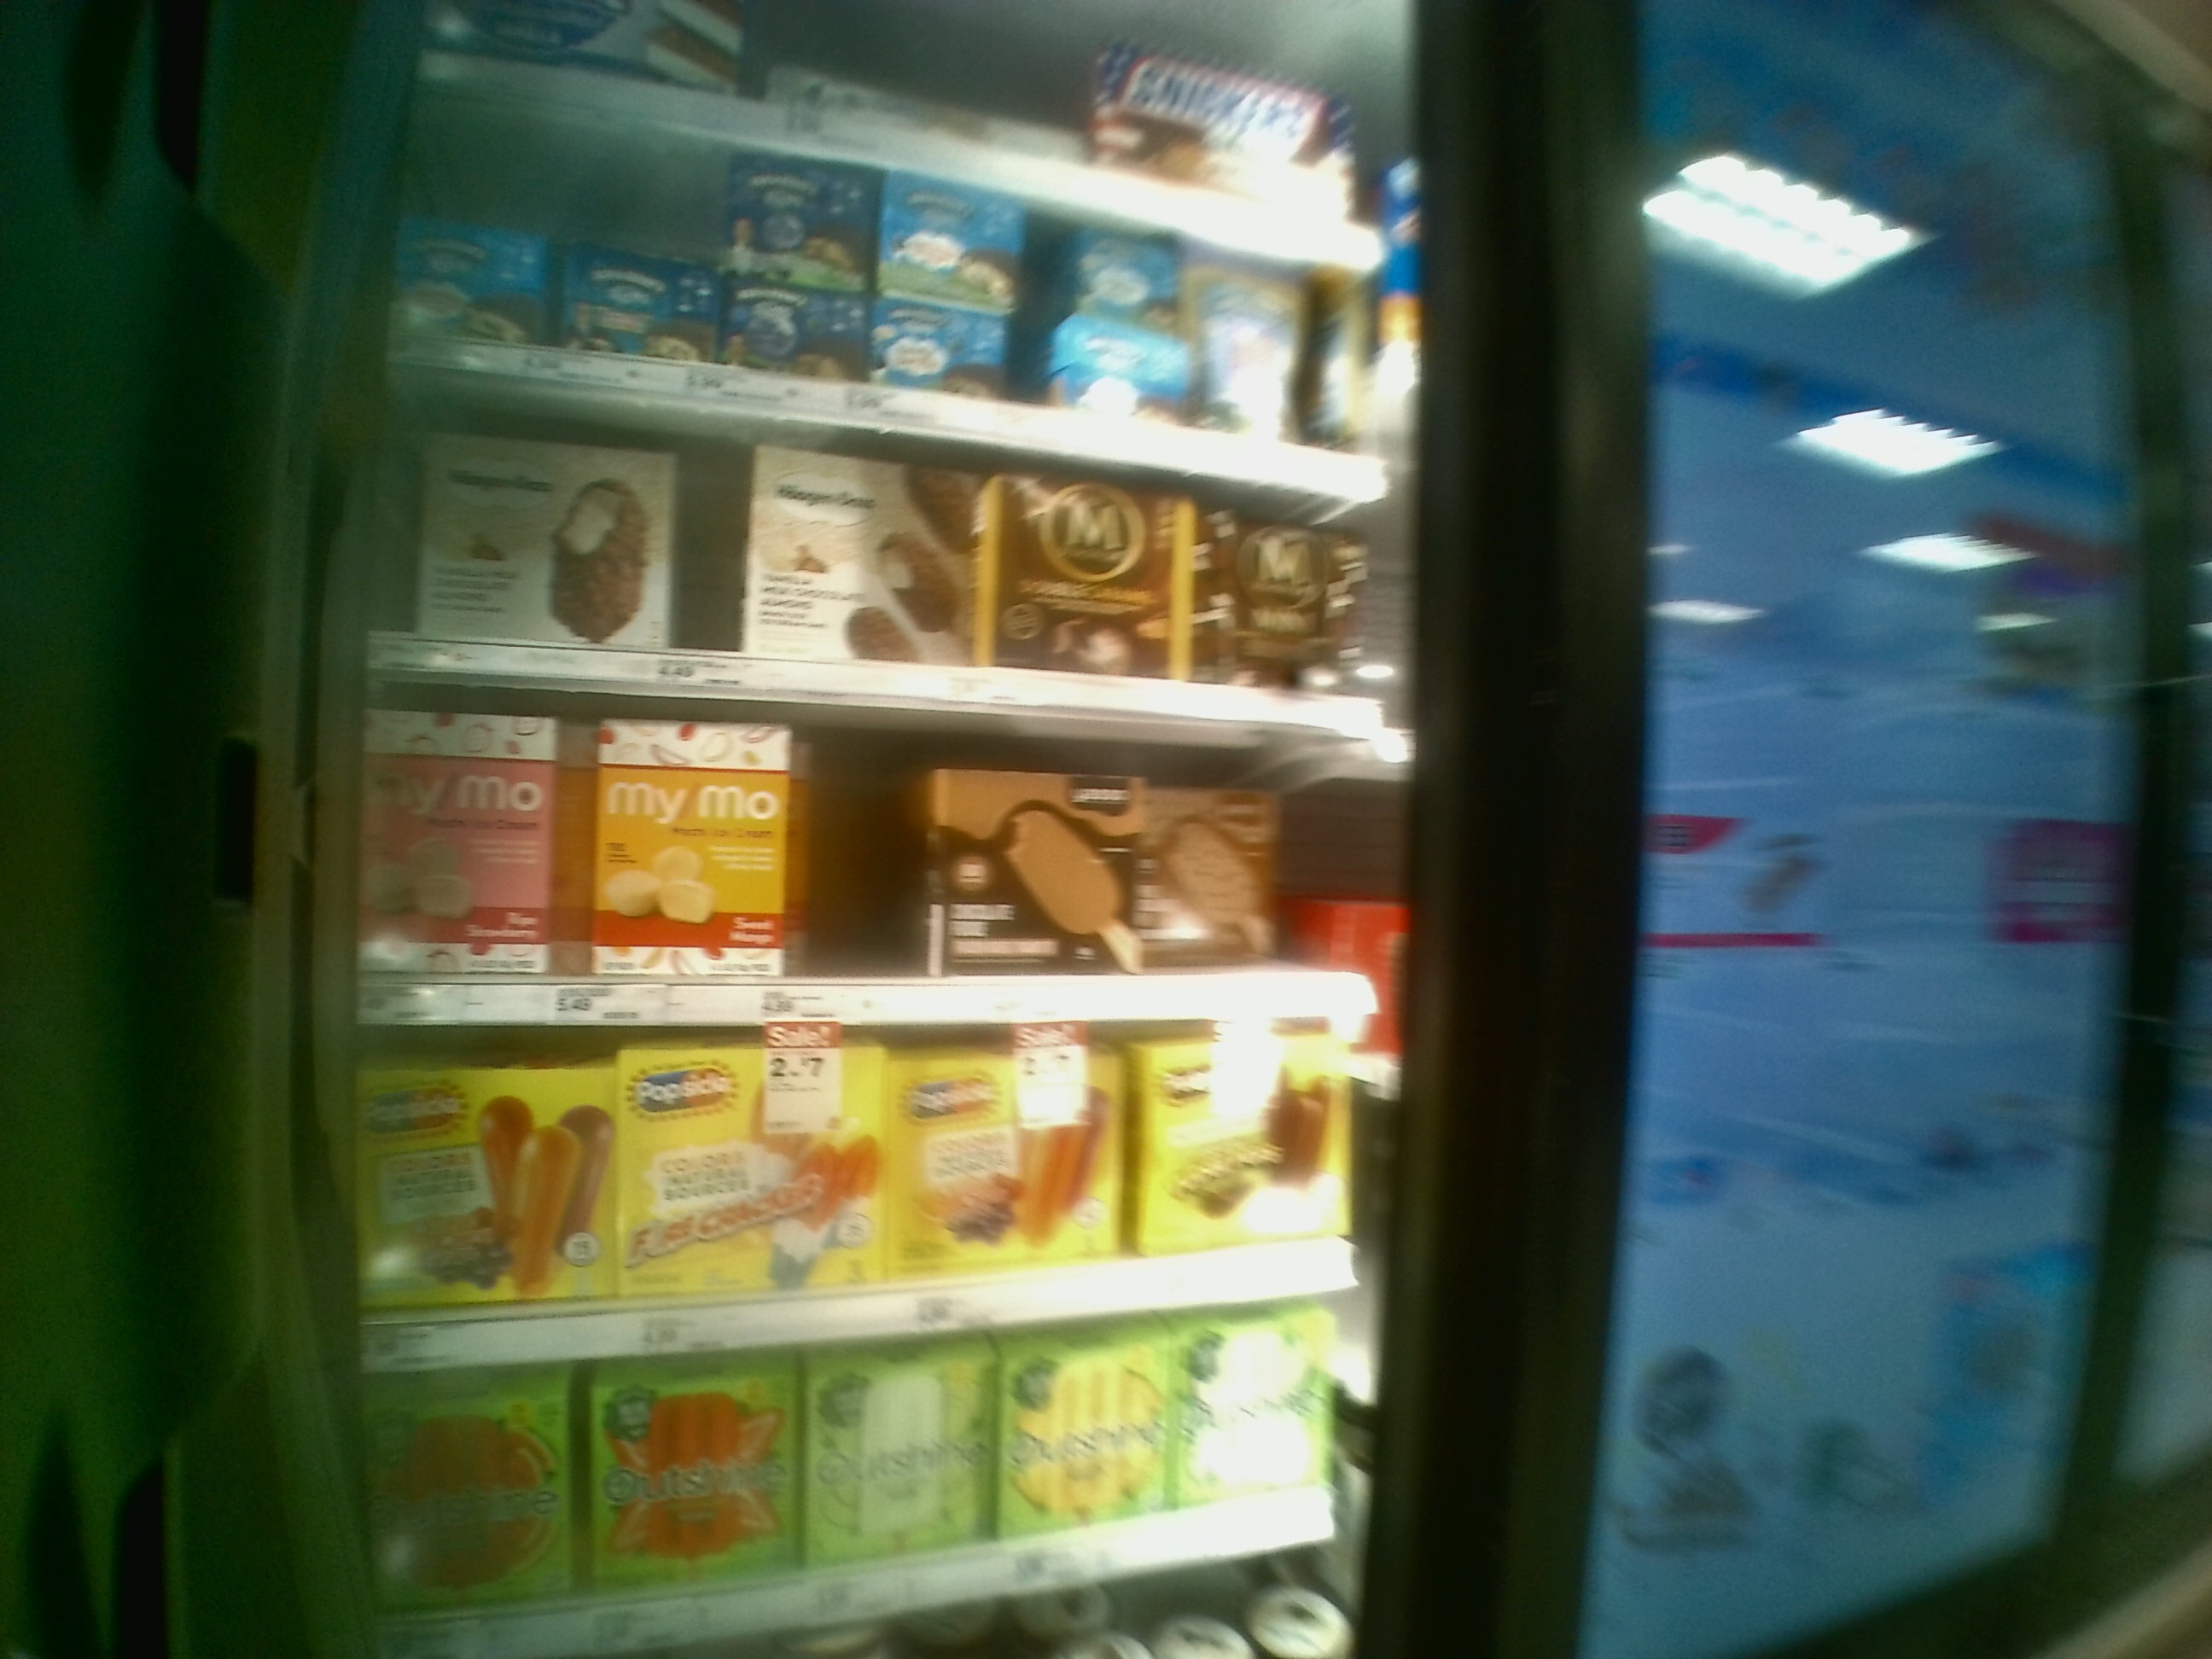ice-cream-shelf: (355, 671, 1400, 1035), (354, 1035, 1393, 1366)
